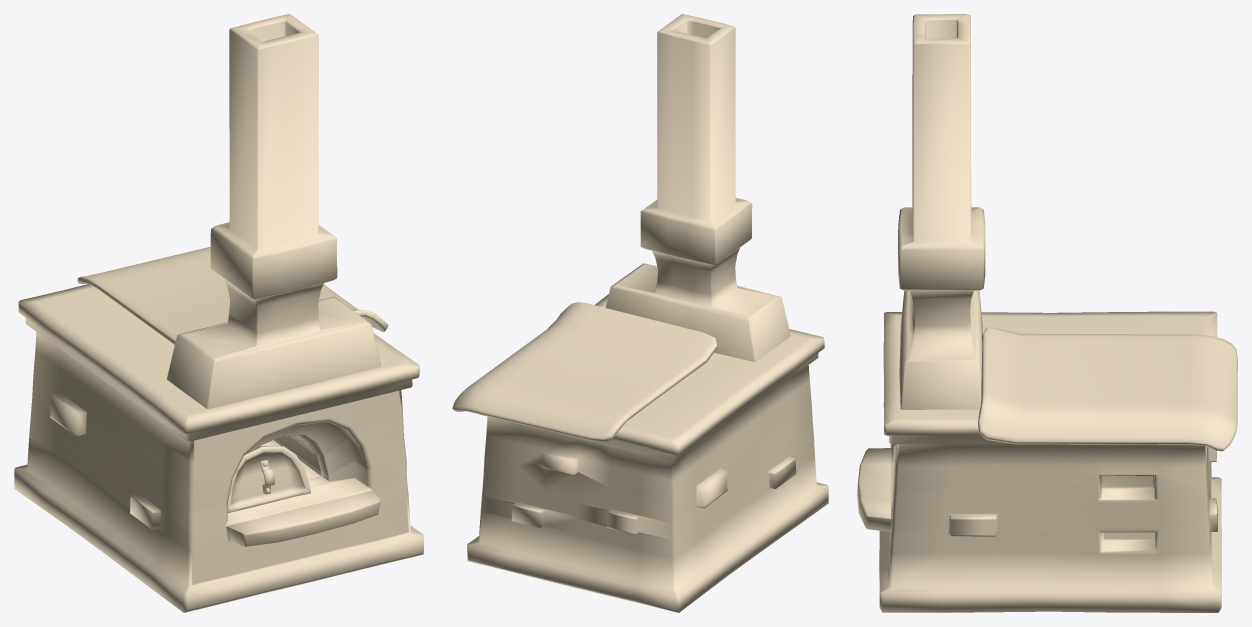
File: stove_2.fbx
The picture shows the model from 3 angles, left to right: view 1: azimuth 30°, elevation 25°; view 2: azimuth 150°, elevation 25°; view 3: azimuth 270°, elevation 25°; orthographic projection. The views are drawn at different scales.
Parts seen in each view (by area): view 1: stove3_01; view 2: stove3_01; view 3: stove3_01.
Part boxes in pixels (<box>): stove3_01: <box>14,14,423,612</box>; stove3_01: <box>452,14,828,612</box>; stove3_01: <box>857,14,1237,612</box>.
Bounding box in the file's own units: 30.79 × 60.86 × 39.86.
